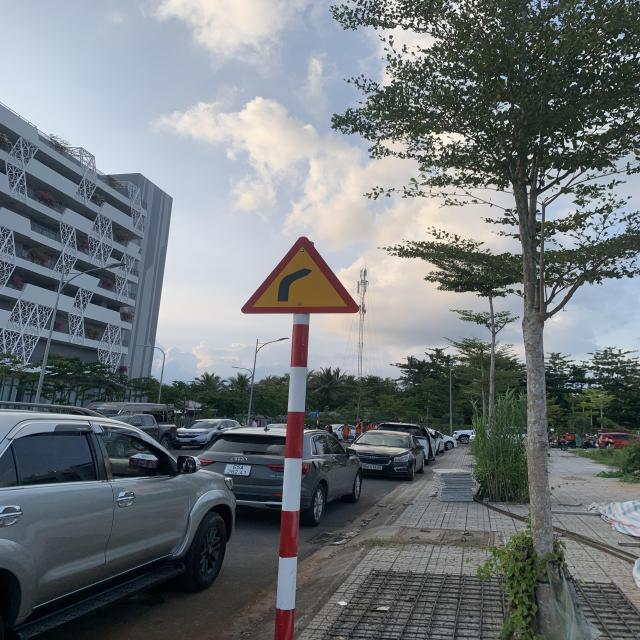Duong_Nguoi_Di_Bo_Cat_Ngang: (240, 235, 358, 314)
